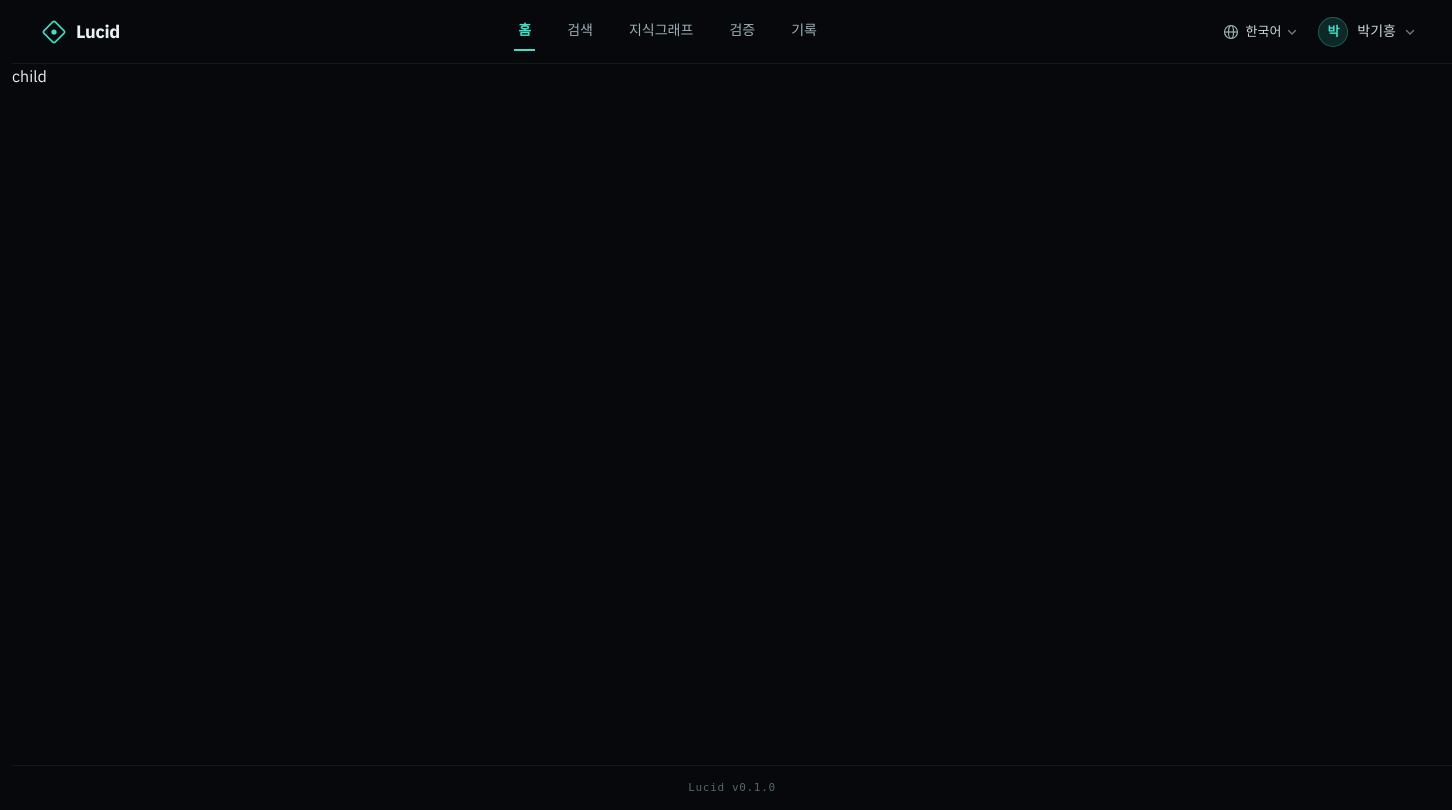
Test case: AppShell › REQ-009 — English 클릭 → 베타 안내 노출 (★ 진입 X)
Click the button with test id "app-shell-lang-trigger" at (1260, 32), box [1216,17,1305,46]
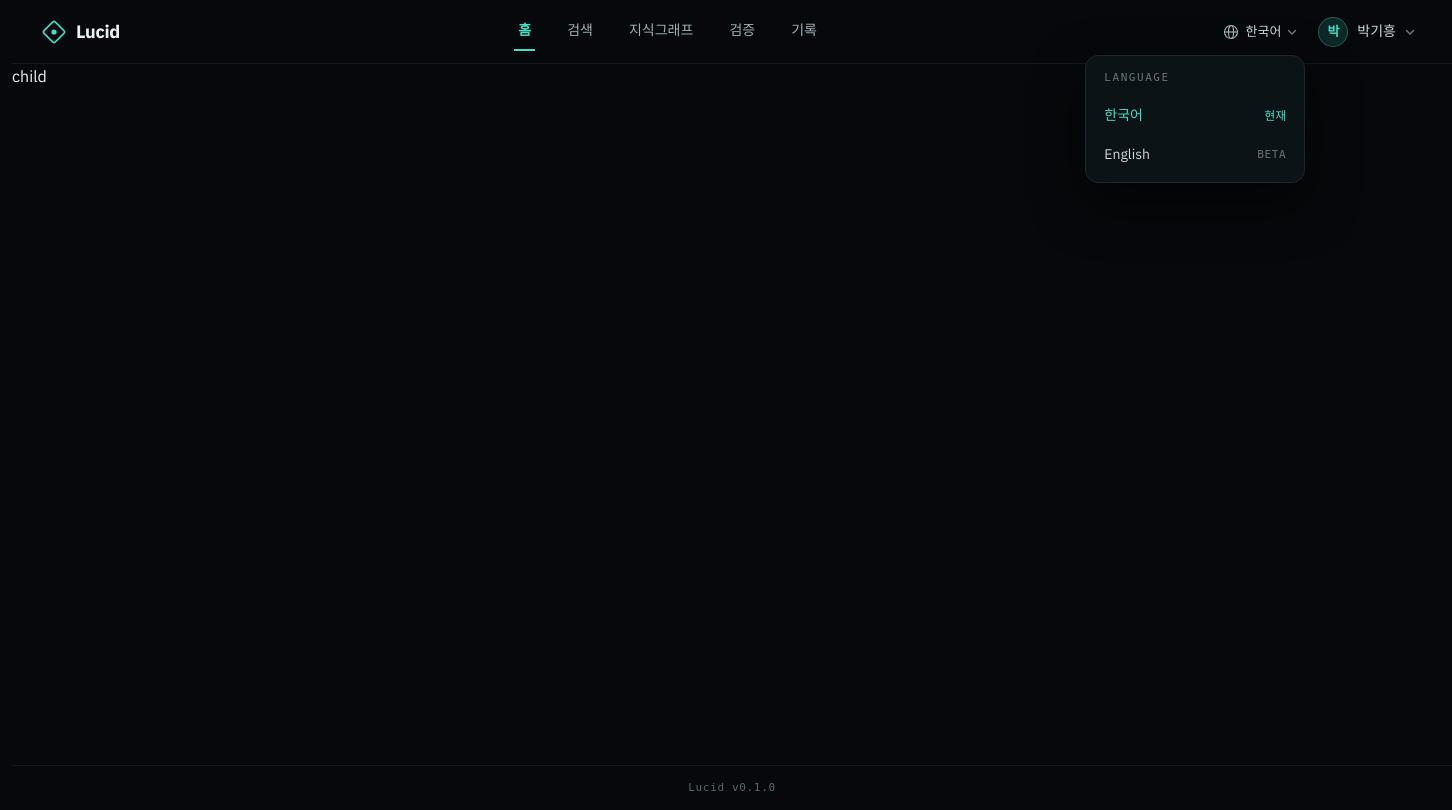
Click the menu item with test id "app-shell-lang-option-en" at (1195, 155), box [1094,135,1296,174]
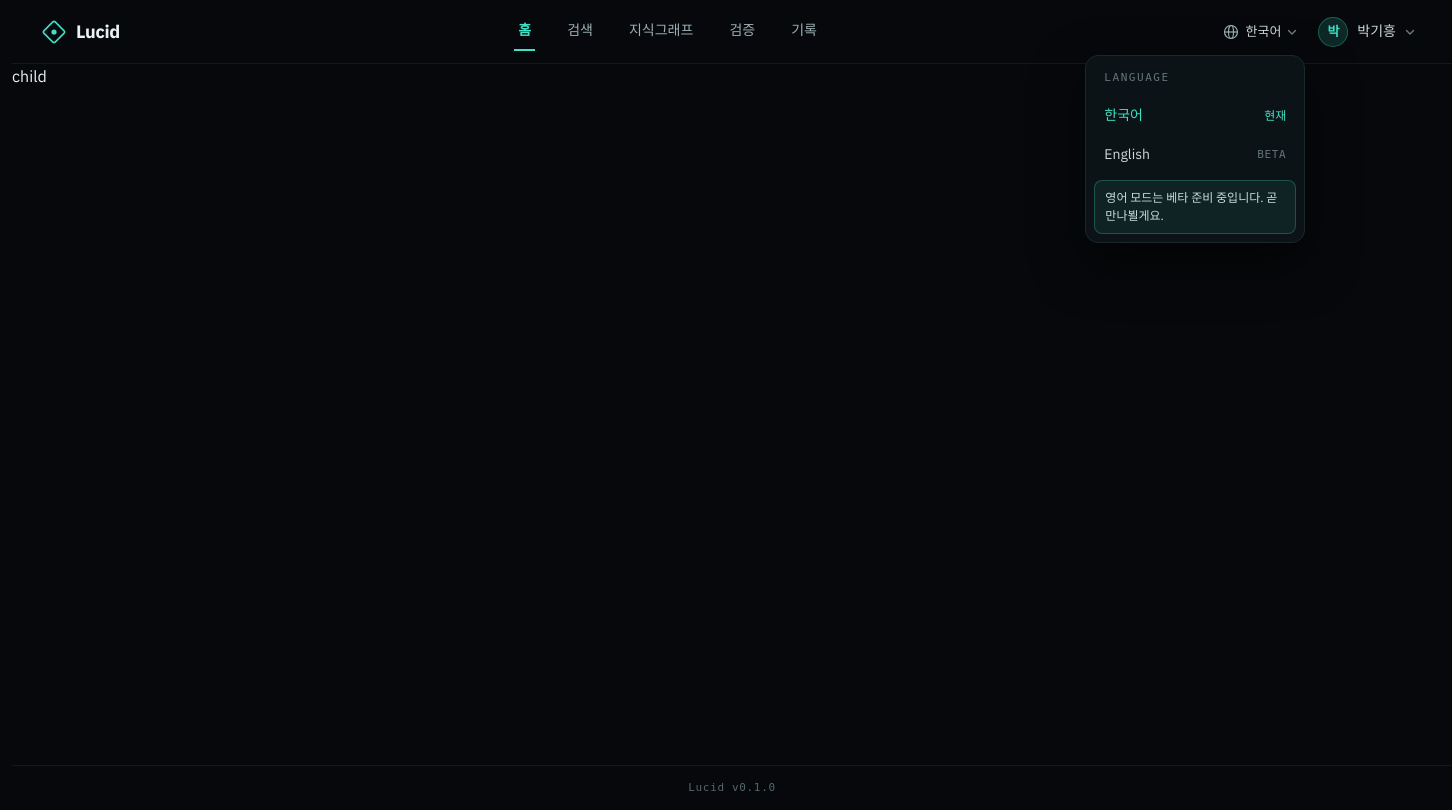
Expected: the text with test id "app-shell-lang-current" reads "한국어", [1246,23,1281,40]
Expected: the message "영어 모드는 베타 준비 중입니다. 곧 만나뵐게요." is shown, [1094,180,1296,234]
Expected: the message with test id "app-shell-lang-beta-notice" shows "베타 준비 중", [1105,190,1277,223]
